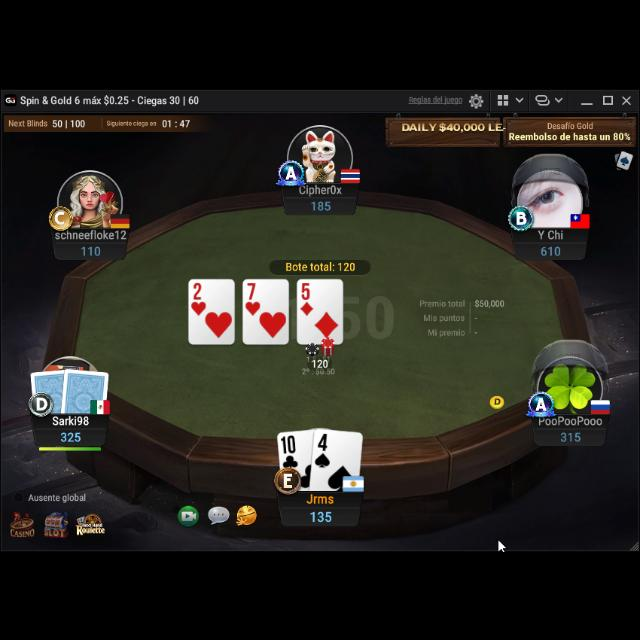2h: (190, 278, 208, 314)
4s: (314, 428, 332, 466)
5d: (298, 278, 316, 316)
7h: (244, 278, 262, 314)
Tc: (281, 430, 301, 468)
bet_text: (314, 355, 332, 369), (313, 355, 331, 367)
card_back: (60, 362, 110, 412), (30, 364, 70, 412)
dealer: (488, 390, 506, 408)
pot_text: (285, 258, 357, 270)
stack_text: (308, 505, 334, 521), (538, 241, 562, 255), (59, 426, 82, 440), (310, 195, 332, 209), (81, 242, 102, 256), (558, 428, 582, 440)
